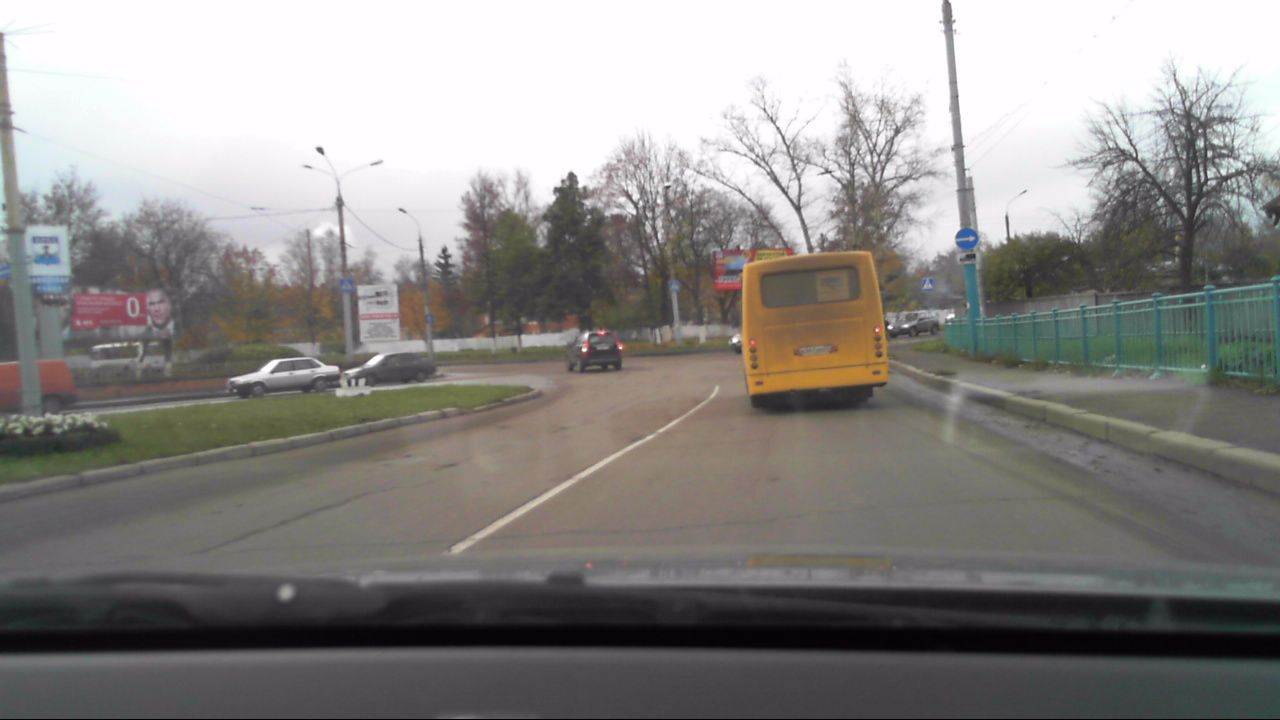Turn Right: (954, 227, 979, 250)
